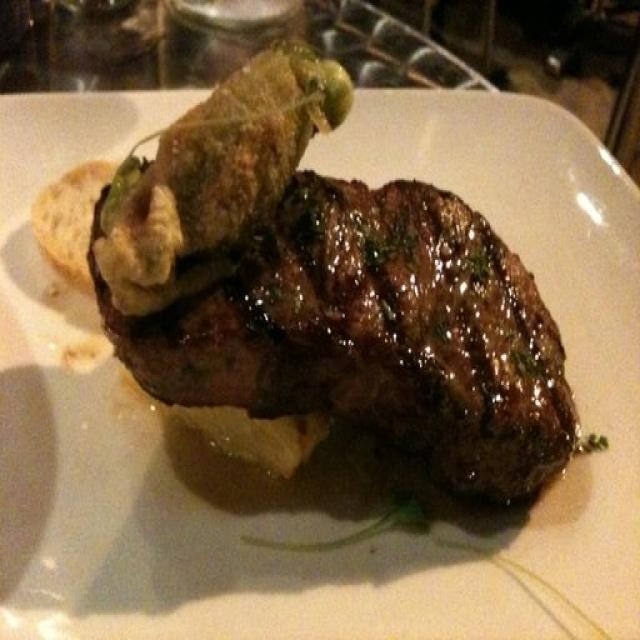Steak: (110, 107, 608, 517)
